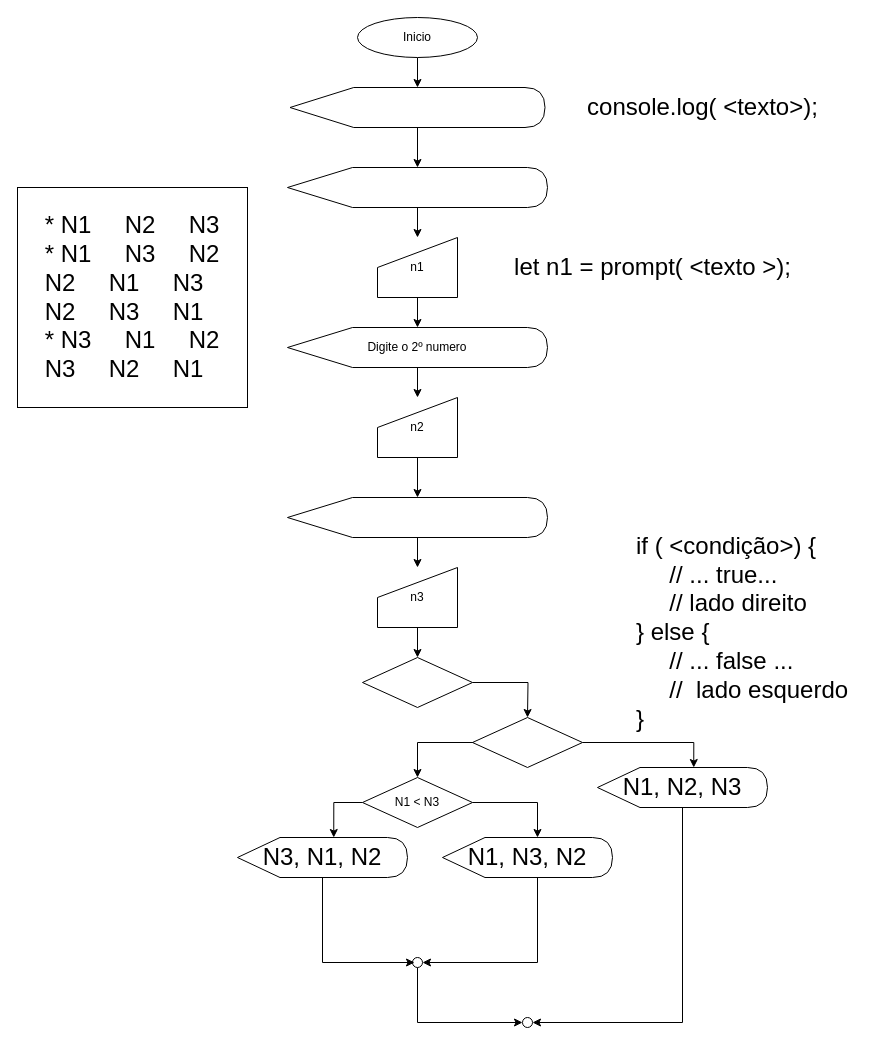
Image size: 882x1048. Some labels were removed from this diagram. The centre of each missing label's shape, as x and y in pixels:
"Programa para ordenar 3 numeros": the point at 417,107
Digite o 1º numero: the point at 417,187
Digite o 3º numero: the point at 417,517
N1 < N2: the point at 417,682
N2 < N3: the point at 527,742
